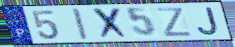5: (124, 6, 160, 39), (30, 9, 61, 40)
I: (70, 8, 90, 41)
J: (196, 6, 221, 36)
X: (91, 6, 132, 40)
Z: (155, 7, 195, 38)
